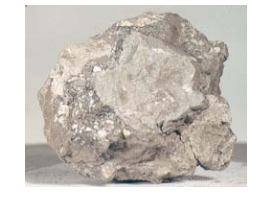Breccia: (31, 7, 240, 182)
